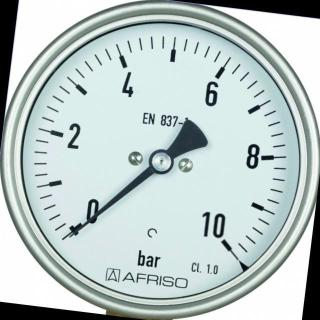gauge: (0, 0, 320, 320), (188, 208, 244, 270), (56, 188, 106, 252), (148, 148, 174, 174), (66, 228, 80, 241)
